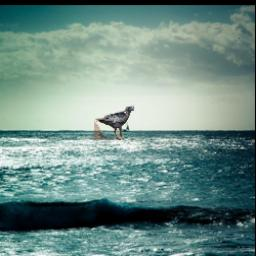Crow: (95, 106, 135, 141)
